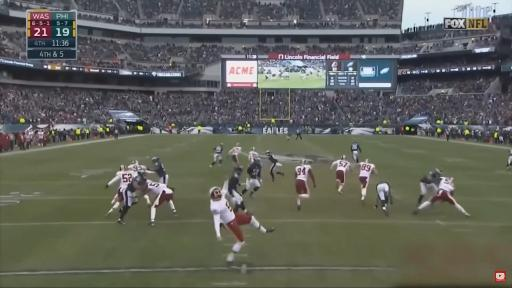Helmet: (210, 187, 222, 200), (234, 166, 242, 177), (152, 157, 160, 163), (120, 165, 126, 170), (301, 159, 307, 164), (254, 157, 260, 162), (132, 160, 138, 164), (341, 155, 346, 159), (235, 142, 240, 146), (251, 146, 255, 150), (266, 150, 270, 153), (365, 159, 369, 162), (438, 169, 442, 172), (221, 143, 224, 147)
Jersey: (211, 197, 235, 237), (108, 171, 137, 187), (147, 181, 172, 195), (128, 175, 146, 192), (420, 171, 441, 185), (295, 165, 311, 181), (247, 162, 261, 179), (359, 163, 374, 178), (438, 178, 454, 192), (228, 174, 239, 194), (332, 160, 350, 171), (155, 162, 166, 177), (128, 164, 146, 172), (248, 151, 259, 162), (268, 154, 278, 163), (351, 143, 361, 152), (230, 147, 241, 155), (214, 146, 223, 154)
Player: (209, 182, 274, 264), (413, 177, 470, 217), (106, 166, 137, 216), (143, 180, 176, 226), (118, 172, 147, 224), (295, 160, 315, 210), (359, 159, 377, 204), (418, 169, 441, 204), (228, 168, 246, 212), (242, 158, 261, 196), (331, 155, 350, 193), (147, 157, 168, 185), (375, 182, 392, 216), (266, 151, 284, 181), (128, 161, 153, 174), (210, 144, 223, 167), (229, 143, 241, 167), (351, 142, 361, 163), (248, 147, 258, 163), (507, 150, 511, 169)
